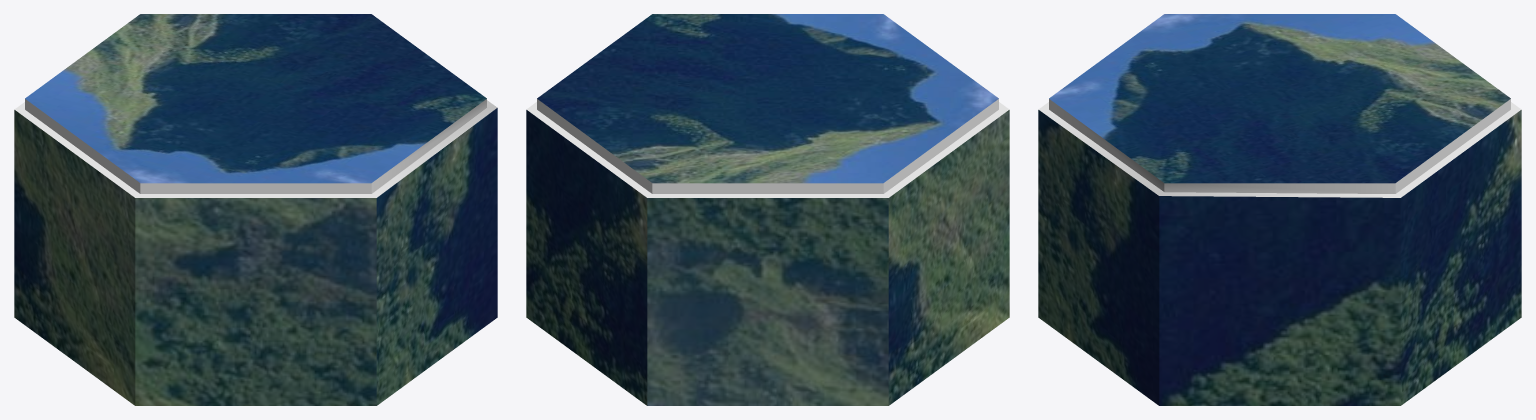
File: MountainHexagon.fbx
The picture shows the model from 3 angles, left to right: view 1: azimuth 30°, elevation 25°; view 2: azimuth 150°, elevation 25°; view 3: azimuth 270°, elevation 25°; orthographic projection.
Parts seen in each view (by area): view 1: Cylinder; view 2: Cylinder; view 3: Cylinder.
Part boxes in pixels (bbox=[...]): Cylinder: bbox=[14, 14, 497, 405]; Cylinder: bbox=[526, 14, 1009, 405]; Cylinder: bbox=[1038, 14, 1521, 405].
Bounding box in the file's own units: 173 × 100 × 200.
